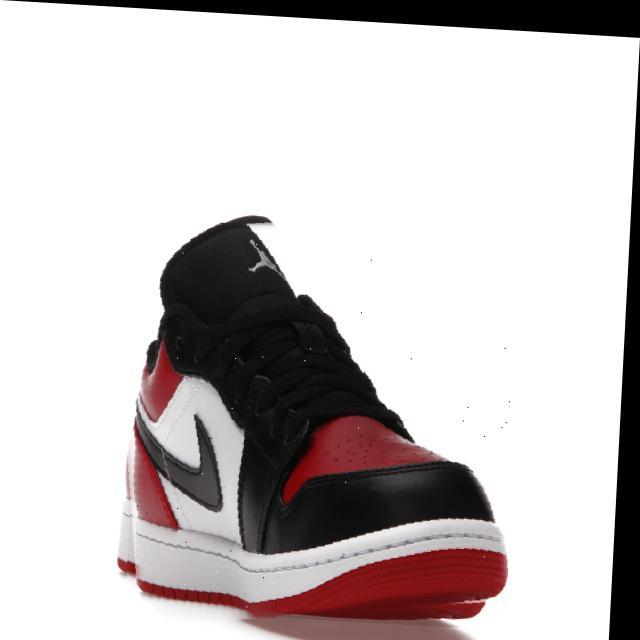J1_InsoleChar: (115, 213, 509, 622)
J1_StitchPattern: (116, 418, 508, 618), (132, 291, 410, 538), (156, 214, 410, 445), (215, 298, 403, 440), (125, 513, 507, 577), (230, 319, 369, 416), (132, 381, 227, 513), (243, 231, 284, 279)
